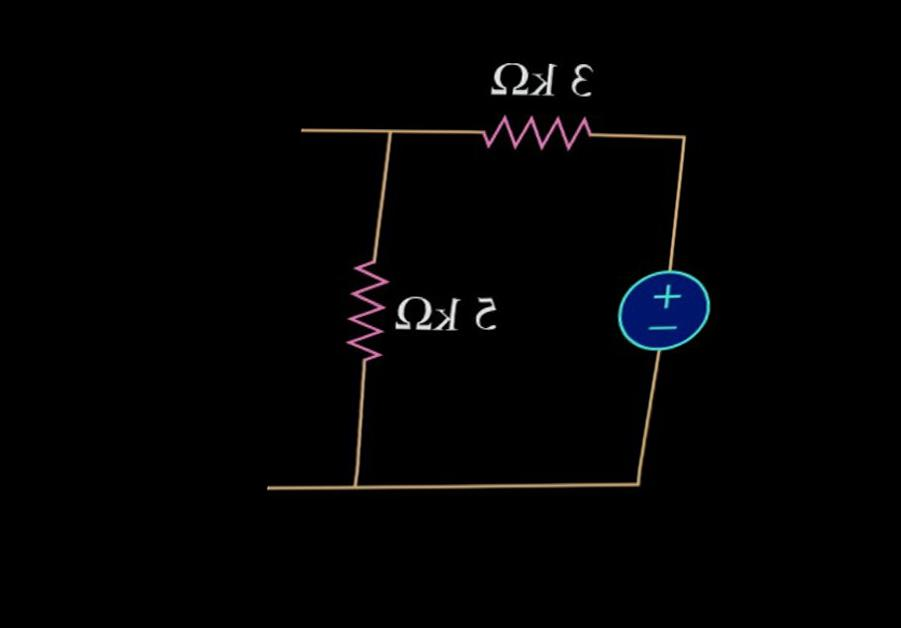Battery: (591, 241, 727, 370)
